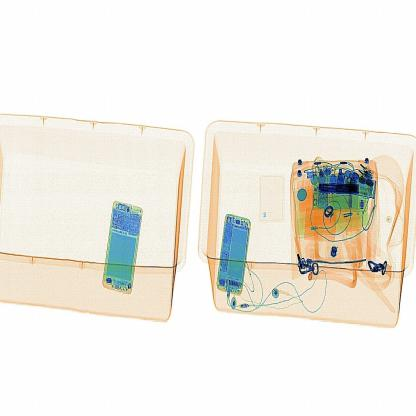scissors: (311, 177, 369, 204)
